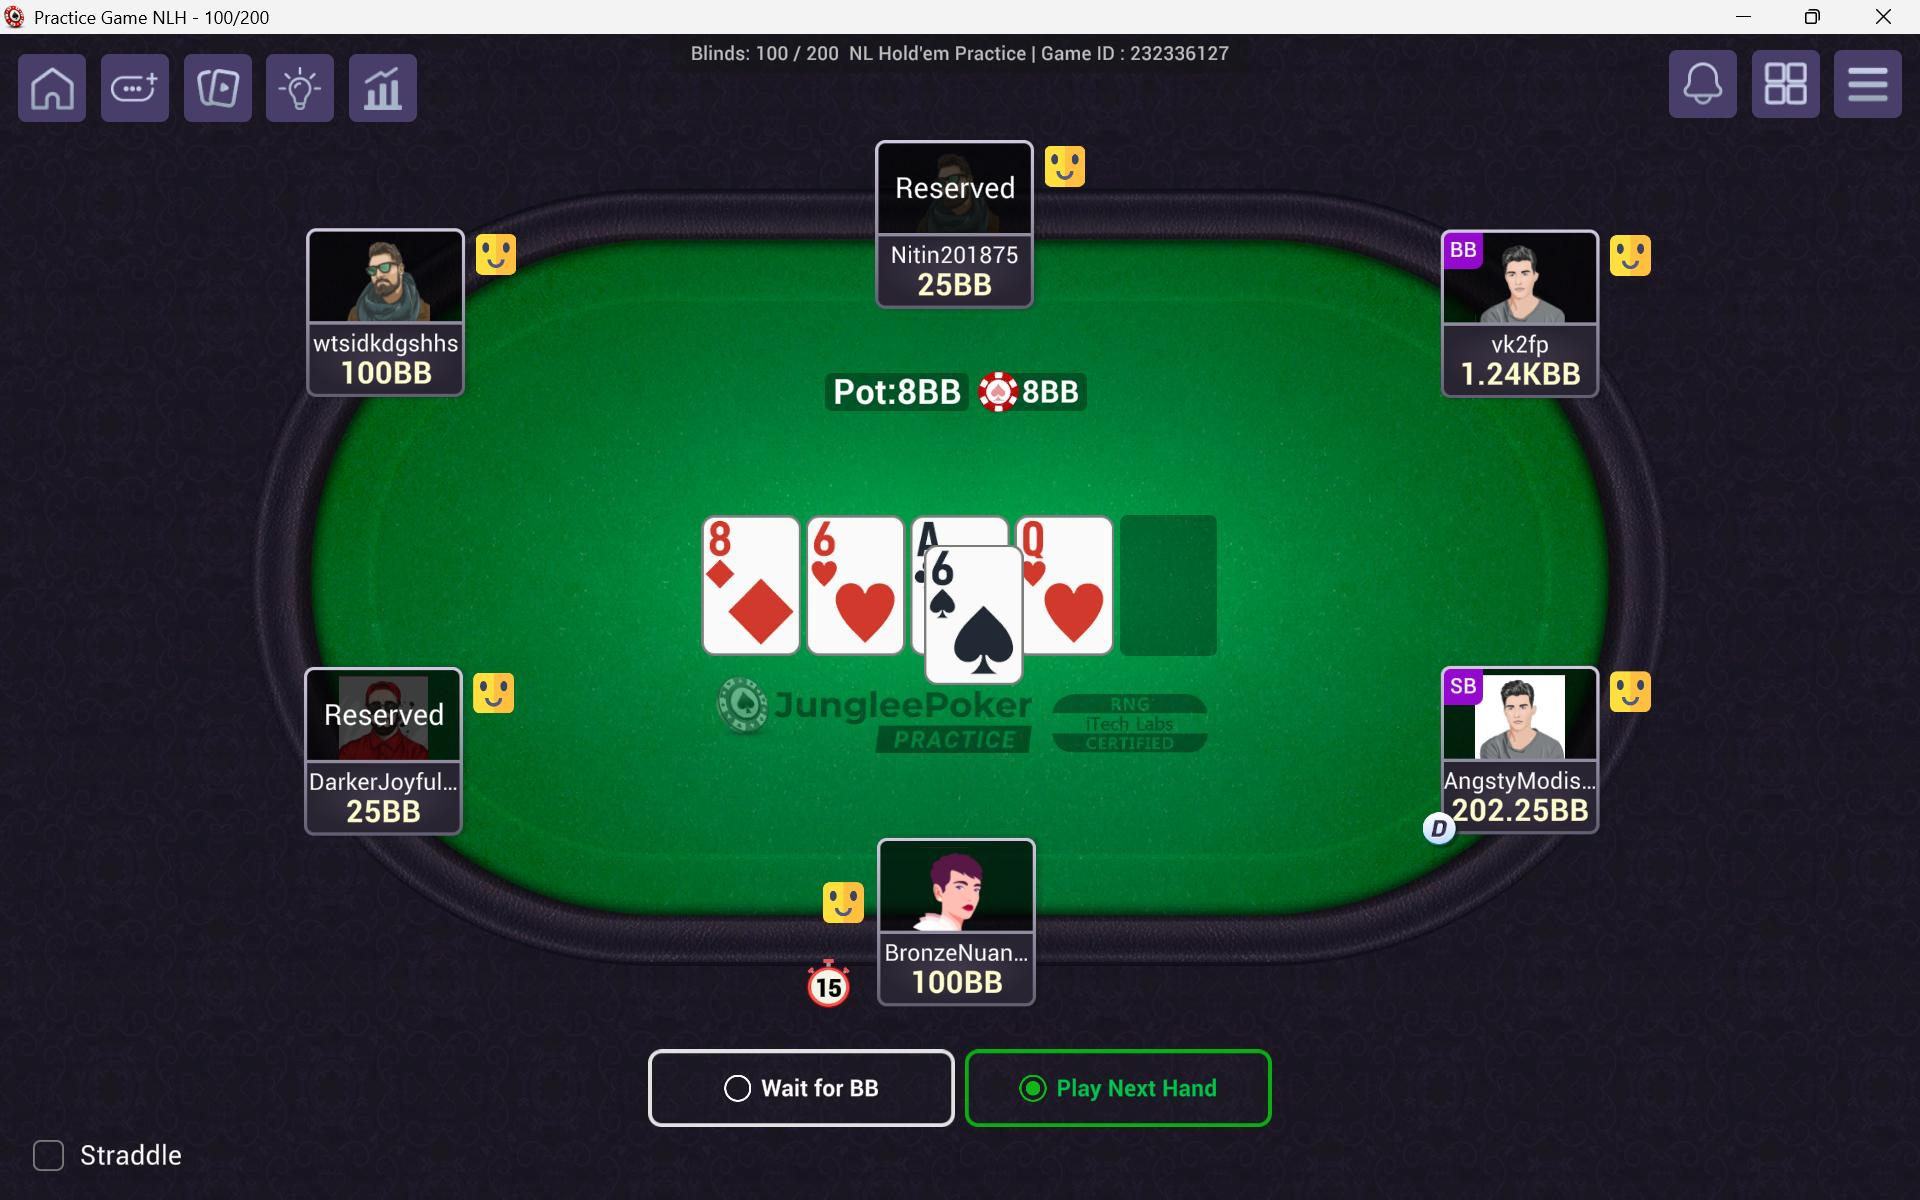my_stack: (894, 968, 1020, 1002)
total_pot: (829, 371, 1088, 411)
villian1_name: (307, 765, 460, 792)
villian1_stack: (330, 792, 442, 829)
villian2_name: (315, 322, 460, 358)
villian2_stack: (330, 358, 445, 390)
villian3_name: (878, 238, 1038, 270)
villian3_stack: (908, 270, 998, 300)
villian4_name: (1444, 330, 1601, 359)
villian4_stack: (1457, 359, 1590, 390)
villian5_name: (1443, 758, 1595, 798)
villian5_stack: (1444, 789, 1592, 829)
